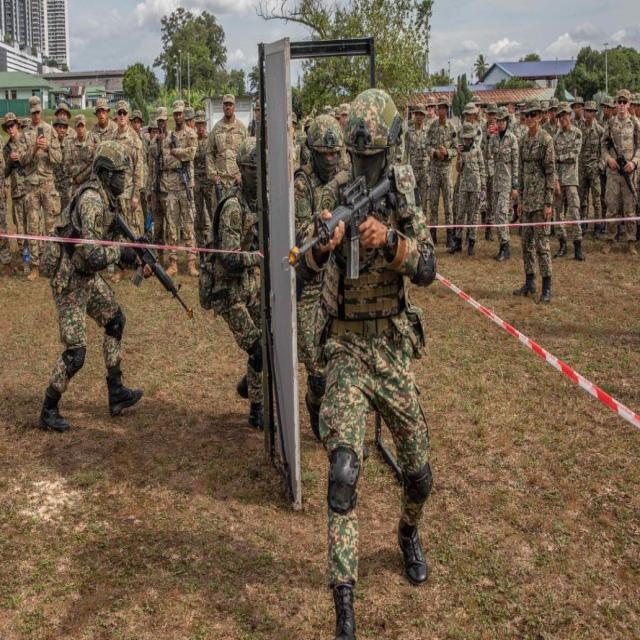m16: (280, 124, 480, 355)
